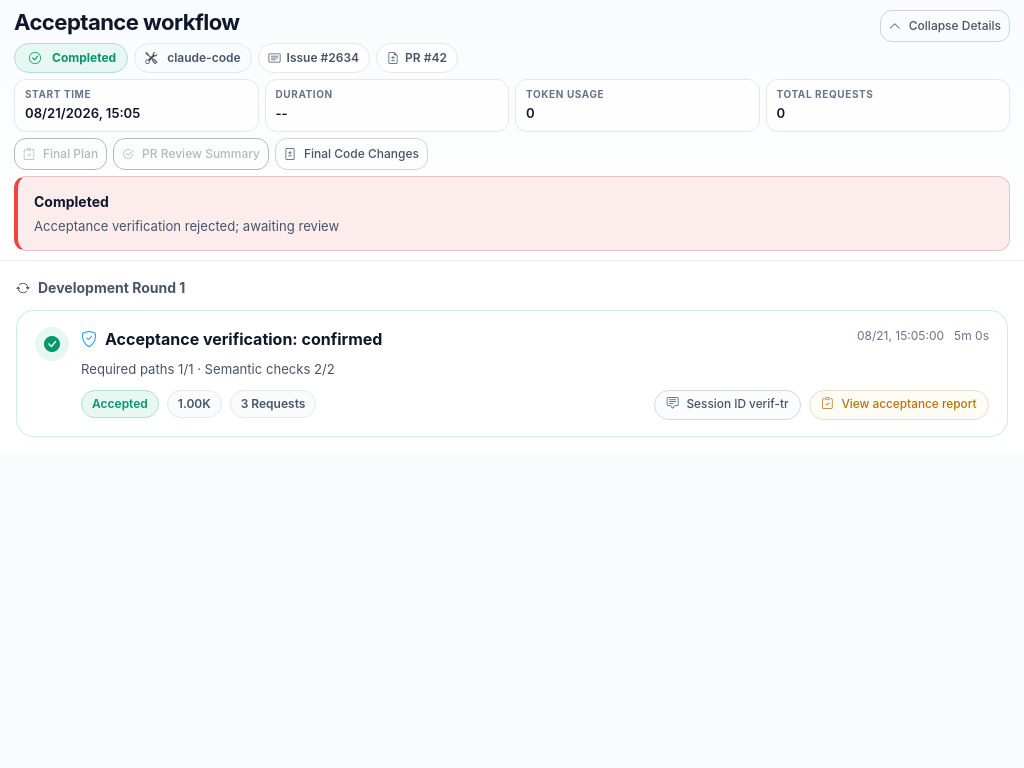
session viewer message rendering (#3000) › renders assistant turns as markdown, tool output as monospace, with timestamps
What coordinates should you click on to do the following:
click the button "Session ID verif-tr"
I would click on:
 (728, 405)
Its box is [654, 390, 801, 420].
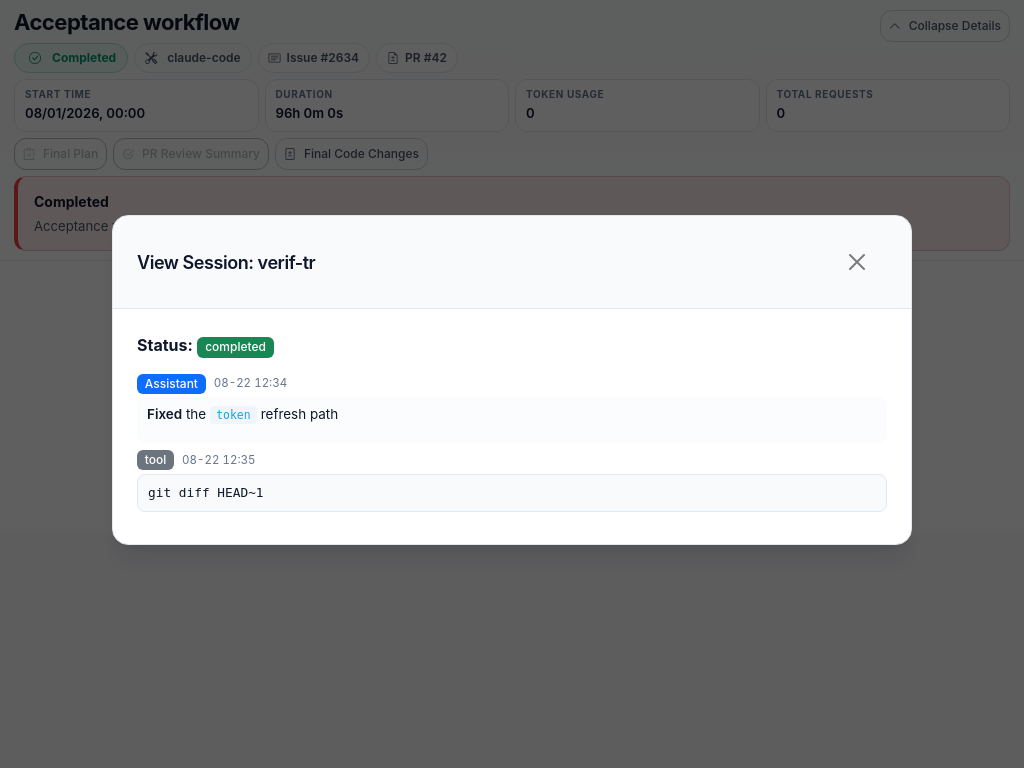
expect the element with class "timeline-session-msg-md" is shown: met, box [137, 398, 887, 442]
expect the text "Fixed" is shown: met, box [147, 406, 182, 422]
expect the text with class "timeline-session-msg-pre" reads "git diff HEAD~1": met, box [148, 486, 264, 500]
